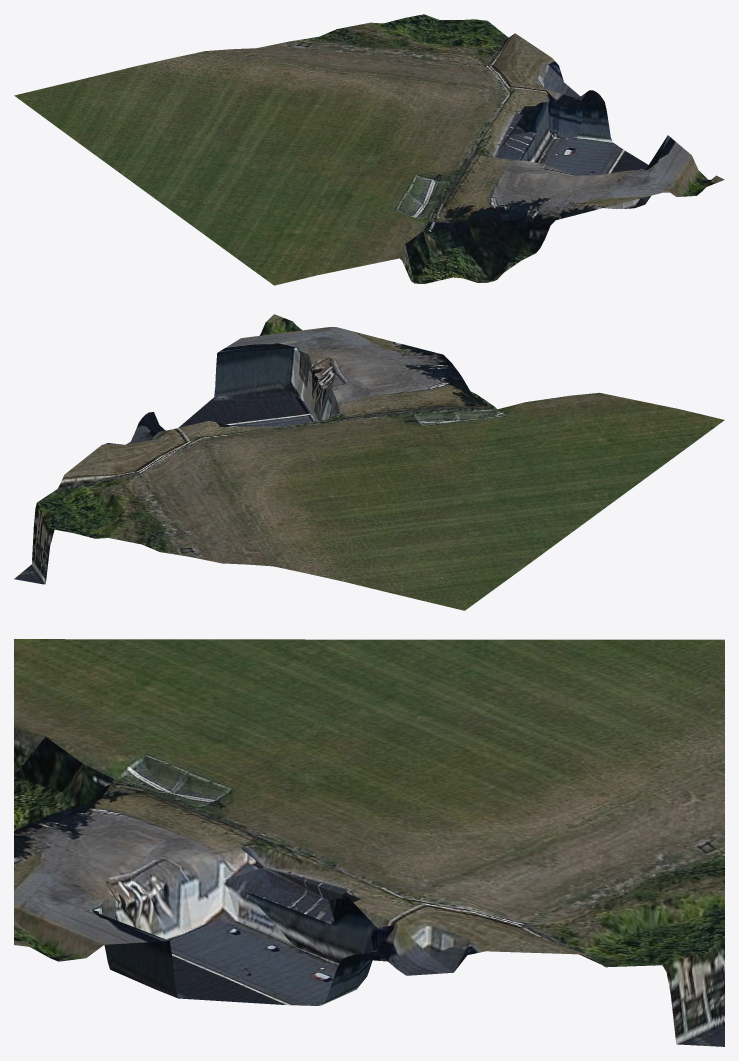
File: map_15_8181_13788.dae
3 views of the same model, one above another, from view 1: azimuth 30°, elevation 25°; view 2: azimuth 150°, elevation 25°; view 3: azimuth 270°, elevation 25° (orthographic). The views are drawn at different scales.
Visible parts, largest first — view 1: Ter0; view 2: Ter0; view 3: Ter0.
Part boxes in pixels (box(x1,y1,x2,y2)): Ter0: box(14, 14, 724, 285); Ter0: box(14, 314, 724, 610); Ter0: box(14, 639, 724, 1046).
Size of the model in its own units: 63.87 by 63.88 by 10.65.
3 materials, 3 textured.
